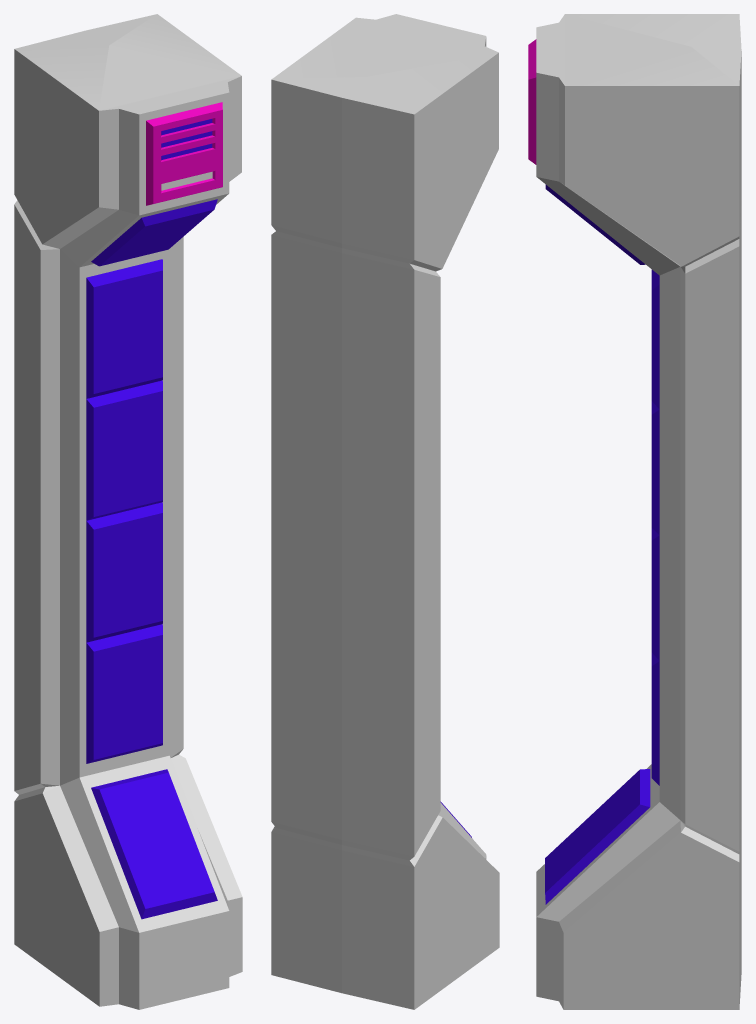
The model's file is SM_Pillar_02.fbx.
3 views of the same model, side by side, from view 1: azimuth 30°, elevation 25°; view 2: azimuth 150°, elevation 25°; view 3: azimuth 270°, elevation 25° (orthographic). The views are drawn at different scales.
Visible parts, largest first — view 1: SM_Pillar_02; view 2: SM_Pillar_02; view 3: SM_Pillar_02.
Part boxes in pixels (left/top/right/bottom): SM_Pillar_02: left=14, top=14, right=242, bottom=1009; SM_Pillar_02: left=271, top=14, right=499, bottom=1009; SM_Pillar_02: left=528, top=14, right=741, bottom=1009.
Size of the model in its own units: 1 by 6 by 1.25.
